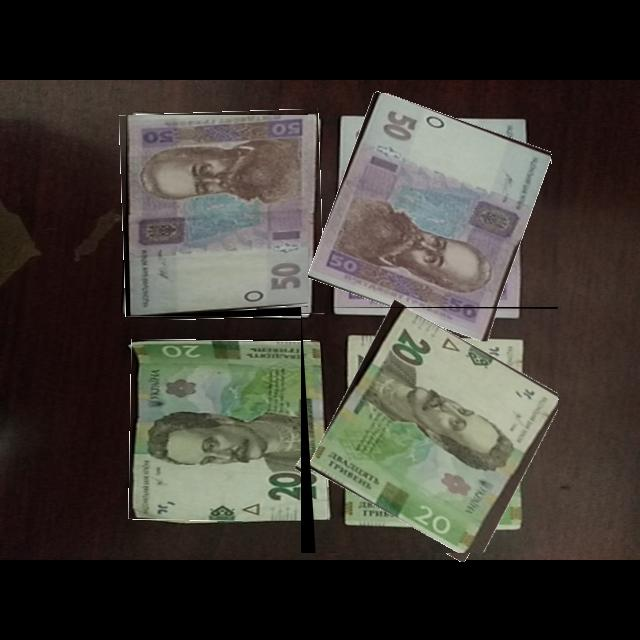20uah: (309, 309, 559, 554), (132, 344, 320, 522)
50uah: (309, 93, 552, 340), (130, 115, 319, 317)
